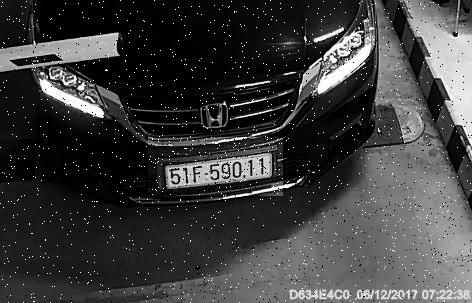License-plate: (149, 138, 284, 197)
